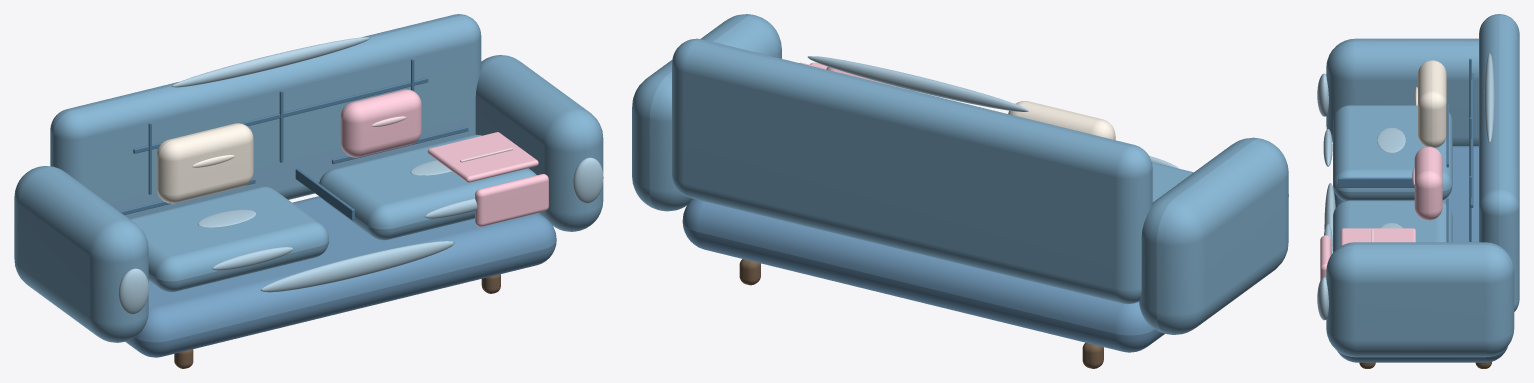
Rendered from 目标图高级海蓝布艺沙发_v367.fbx.
3 views of the same model, side by side, from view 1: azimuth 30°, elevation 25°; view 2: azimuth 150°, elevation 25°; view 3: azimuth 270°, elevation 25° (orthographic). The views are drawn at different scales.
Visible parts, largest first — view 1: 高级海蓝布艺沙发_v367_后靠背厚软墙, 高级海蓝布艺沙发_v367_一体低矮圆角基座, 高级海蓝布艺沙发_v367_左侧圆润厚扶手, 高级海蓝布艺沙发_v367_独立鼓面坐垫, 高级海蓝布艺沙发_v367_右侧圆润厚扶手, 高级海蓝布艺沙发_v367_独立鼓面坐垫.001, 高级海蓝布艺沙发_v367_奶油大抱枕软方包, 高级海蓝布艺沙发_v367_柔粉小抱枕软方包, 高级海蓝布艺沙发_v367_柔粉搭毯贴合座面, 高级海蓝布艺沙发_v367_前沿整条鼓起软包, 高级海蓝布艺沙发_v367_柔粉搭毯圆润垂边, 高级海蓝布艺沙发_v367_靠背顶部圆润长卷 (+8 smaller); view 2: 高级海蓝布艺沙发_v367_后靠背厚软墙, 高级海蓝布艺沙发_v367_一体低矮圆角基座, 高级海蓝布艺沙发_v367_左侧圆润厚扶手, 高级海蓝布艺沙发_v367_右侧圆润厚扶手, 高级海蓝布艺沙发_v367_靠背顶部圆润长卷, 高级海蓝布艺沙发_v367_奶油大抱枕软方包, 高级海蓝布艺沙发_v367_独立鼓面坐垫; view 3: 高级海蓝布艺沙发_v367_右侧圆润厚扶手, 高级海蓝布艺沙发_v367_左侧圆润厚扶手, 高级海蓝布艺沙发_v367_后靠背厚软墙, 高级海蓝布艺沙发_v367_独立鼓面坐垫, 高级海蓝布艺沙发_v367_一体低矮圆角基座, 高级海蓝布艺沙发_v367_独立鼓面坐垫.001, 高级海蓝布艺沙发_v367_奶油大抱枕软方包, 高级海蓝布艺沙发_v367_柔粉小抱枕软方包, 高级海蓝布艺沙发_v367_柔粉搭毯贴合座面, 高级海蓝布艺沙发_v367_两座之间低对比深缝, 高级海蓝布艺沙发_v367_靠背顶部圆润长卷, 高级海蓝布艺沙发_v367_坐垫中央长柔高光 (+8 smaller).
Boxes of the visible parts, x1,y1,x2,y2 form: 高级海蓝布艺沙发_v367_后靠背厚软墙: [50, 14, 481, 218]; 高级海蓝布艺沙发_v367_一体低矮圆角基座: [125, 196, 556, 357]; 高级海蓝布艺沙发_v367_左侧圆润厚扶手: [14, 166, 148, 342]; 高级海蓝布艺沙发_v367_独立鼓面坐垫: [130, 186, 329, 292]; 高级海蓝布艺沙发_v367_右侧圆润厚扶手: [475, 55, 603, 231]; 高级海蓝布艺沙发_v367_独立鼓面坐垫.001: [319, 134, 536, 240]; 高级海蓝布艺沙发_v367_奶油大抱枕软方包: [156, 123, 253, 203]; 高级海蓝布艺沙发_v367_柔粉小抱枕软方包: [340, 89, 421, 157]; 高级海蓝布艺沙发_v367_柔粉搭毯贴合座面: [427, 132, 538, 182]; 高级海蓝布艺沙发_v367_前沿整条鼓起软包: [260, 241, 454, 292]; 高级海蓝布艺沙发_v367_柔粉搭毯圆润垂边: [475, 174, 548, 226]; 高级海蓝布艺沙发_v367_靠背顶部圆润长卷: [172, 37, 369, 87]; 高级海蓝布艺沙发_v367_后靠背厚软墙: [672, 38, 1152, 304]; 高级海蓝布艺沙发_v367_一体低矮圆角基座: [682, 199, 1164, 352]; 高级海蓝布艺沙发_v367_左侧圆润厚扶手: [1139, 137, 1288, 334]; 高级海蓝布艺沙发_v367_右侧圆润厚扶手: [632, 14, 781, 211]; 高级海蓝布艺沙发_v367_靠背顶部圆润长卷: [807, 56, 1028, 111]; 高级海蓝布艺沙发_v367_奶油大抱枕软方包: [1008, 100, 1115, 140]; 高级海蓝布艺沙发_v367_独立鼓面坐垫: [1151, 162, 1193, 202]; 高级海蓝布艺沙发_v367_右侧圆润厚扶手: [1326, 242, 1514, 357]; 高级海蓝布艺沙发_v367_左侧圆润厚扶手: [1326, 38, 1478, 145]; 高级海蓝布艺沙发_v367_后靠背厚软墙: [1479, 14, 1519, 311]; 高级海蓝布艺沙发_v367_独立鼓面坐垫: [1333, 105, 1452, 200]; 高级海蓝布艺沙发_v367_一体低矮圆角基座: [1334, 146, 1507, 362]; 高级海蓝布艺沙发_v367_独立鼓面坐垫.001: [1333, 200, 1452, 252]; 高级海蓝布艺沙发_v367_奶油大抱枕软方包: [1418, 60, 1446, 148]; 高级海蓝布艺沙发_v367_柔粉小抱枕软方包: [1414, 146, 1442, 220]; 高级海蓝布艺沙发_v367_柔粉搭毯贴合座面: [1340, 228, 1415, 245]; 高级海蓝布艺沙发_v367_两座之间低对比深缝: [1338, 177, 1414, 187]; 高级海蓝布艺沙发_v367_靠背顶部圆润长卷: [1484, 53, 1494, 142]; 高级海蓝布艺沙发_v367_坐垫中央长柔高光: [1377, 127, 1405, 152].
Bounding box in the file's own units: 226 × 95.25 × 84.5.
